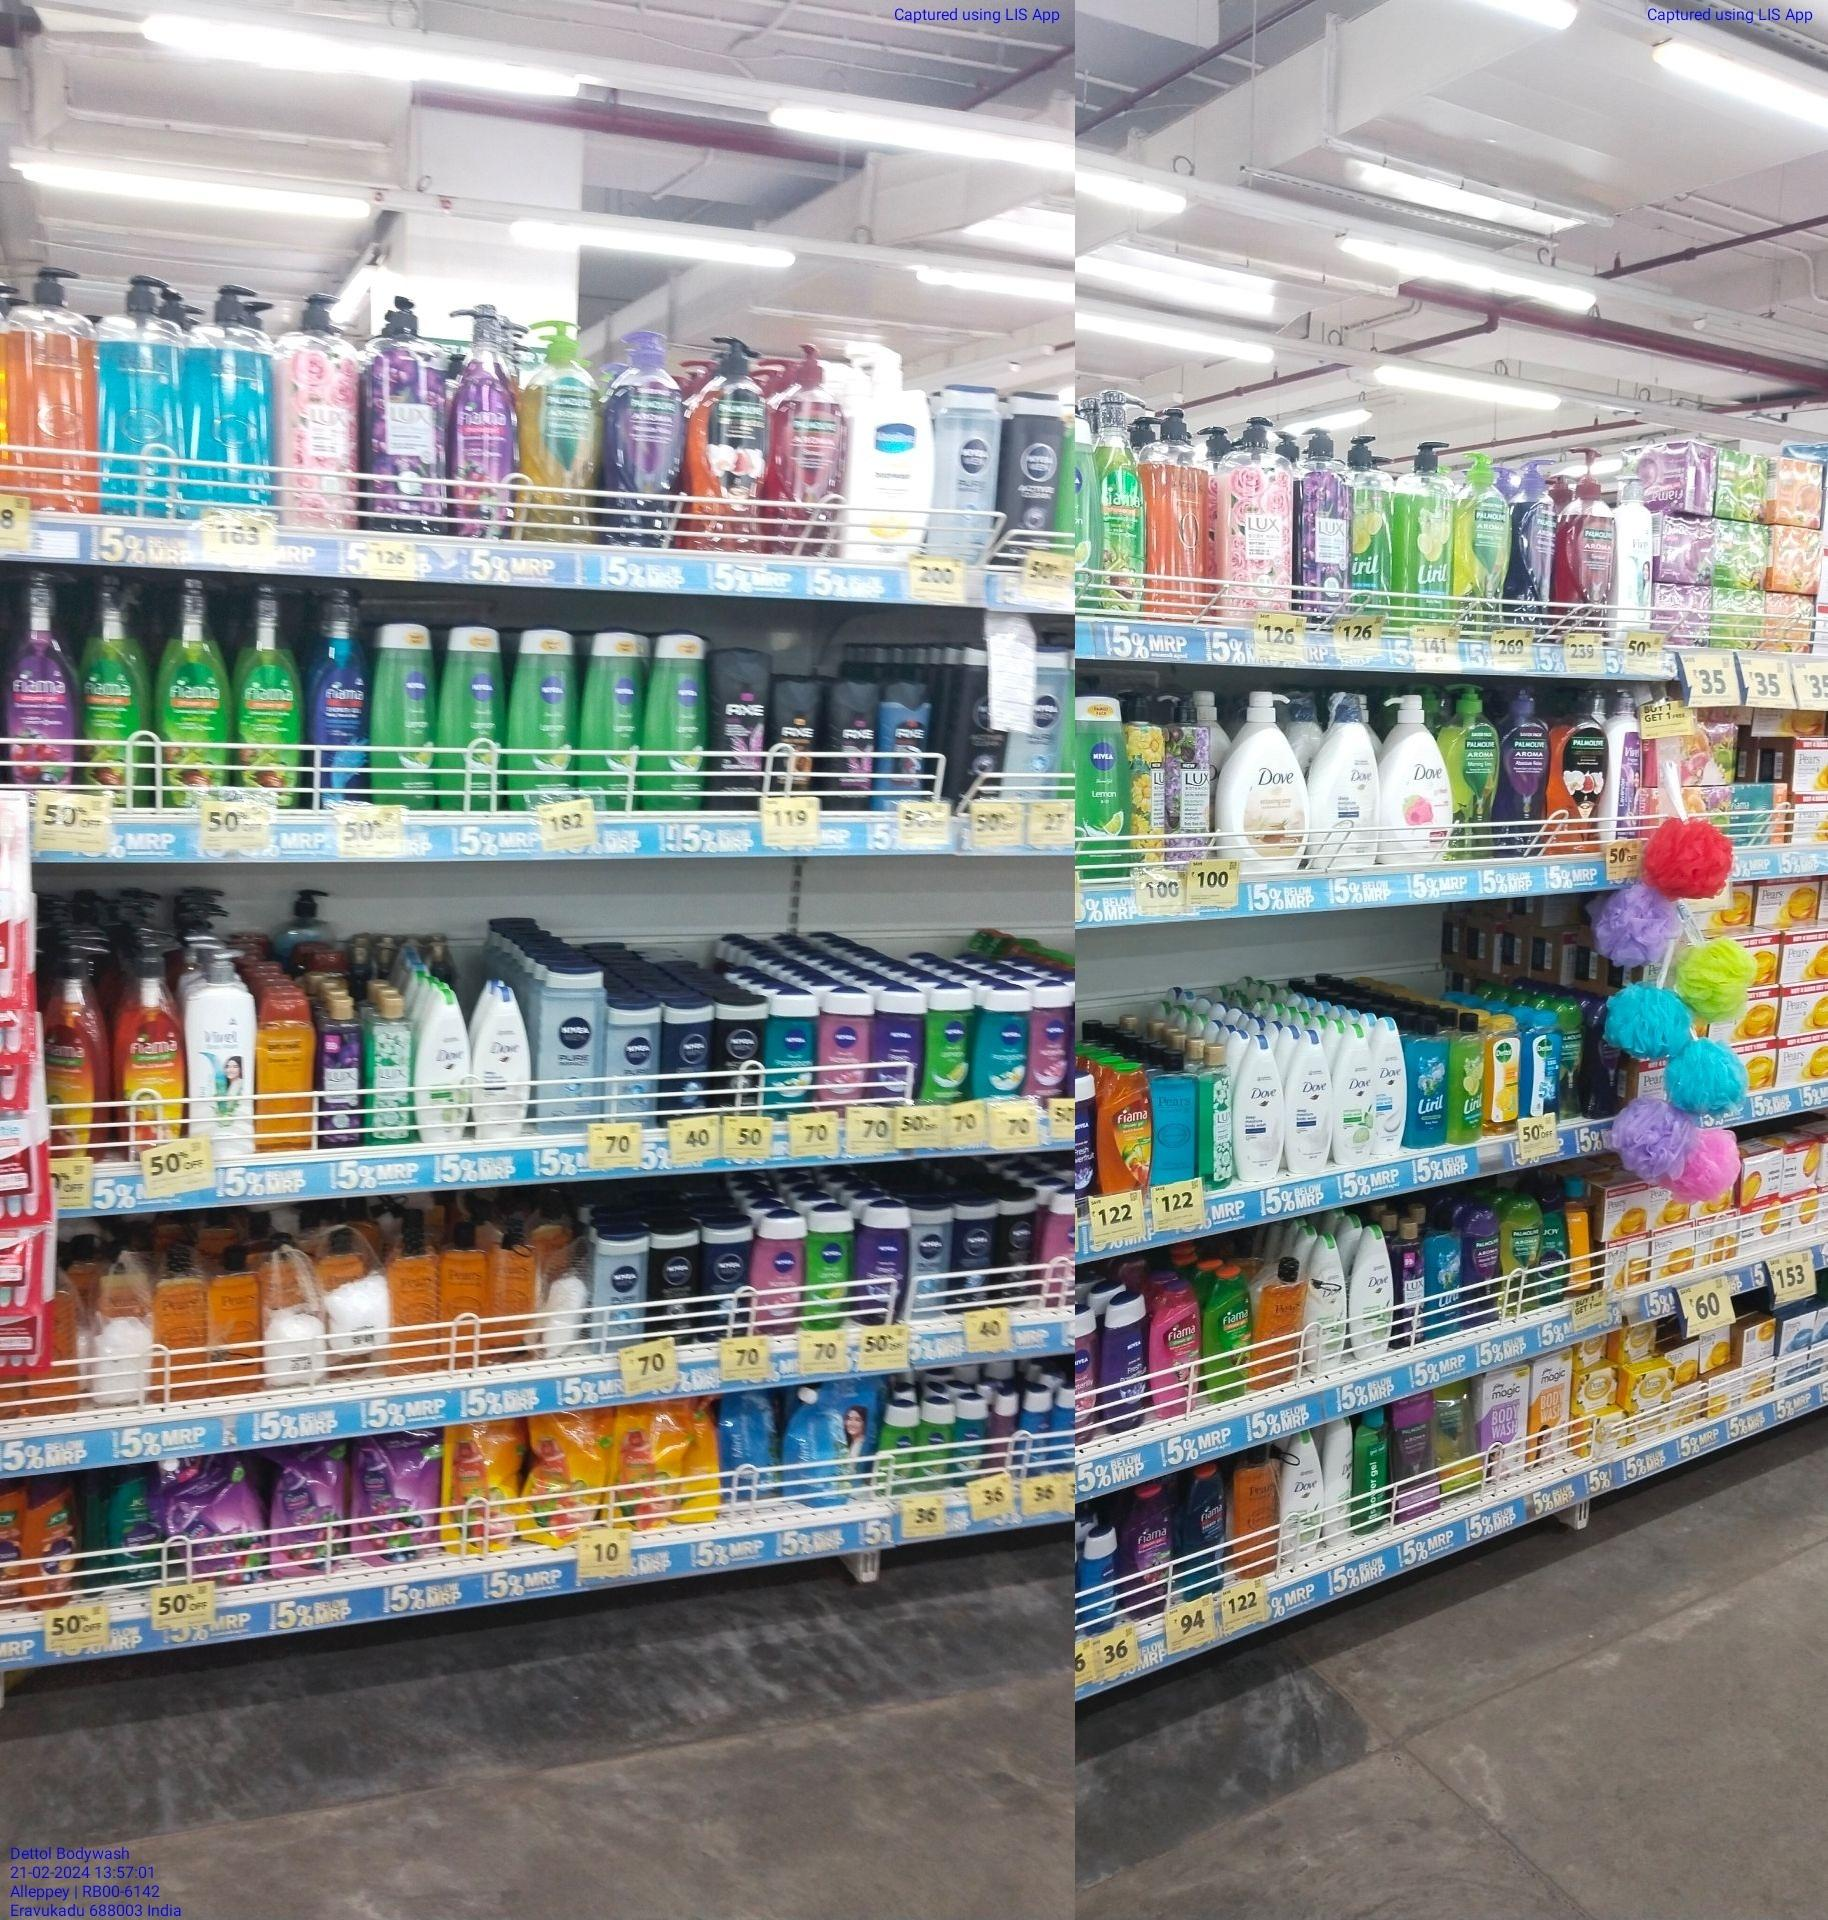Dettol_Bodywash_Cool: (1523, 1011, 1559, 1114)
Dettol_Bodywash_Refresh: (1485, 1015, 1519, 1131)
Dove_Deep_Moisture_Body_Wash_250ML: (473, 986, 530, 1137), (1235, 1039, 1284, 1181), (1286, 1035, 1332, 1174)
Dove_Gentle_Exfoliating_Body_Wash_250ML: (1377, 1017, 1406, 1155)
Dove_Refreshing_Body_Wash_250ML: (415, 994, 472, 1138), (1350, 1224, 1392, 1359), (1305, 1238, 1346, 1373), (1336, 1027, 1375, 1164), (1281, 1433, 1322, 1560)
Fiama_Shower_Gel_Lemongrass_and_Jojoba_250ML: (1204, 1274, 1252, 1404)
Fiama_Shower_Gel_Patchouli_and_Macadamia_250ML: (1152, 1289, 1202, 1418)
Fiama_Shower_Gel_Peach_and_Avocado_250ML: (1099, 1065, 1152, 1188)
Get_Real_Shower_Gel_Moisturising_Glycerin_300ML: (257, 999, 314, 1154)
Joy_Shower_Gel_Mandarin_and_Lemongrass_250ML: (24, 1476, 77, 1603)
Joy_Shower_Gel_Mint_and_Eucalyptus_250ML: (108, 1469, 161, 1589)
Liril_Cooling_Mint_Body_Wash_250ML: (1410, 1015, 1447, 1152), (1428, 1212, 1461, 1335)
Liril_Lime_and_Tea_Tree_Oil_Body_Wash_250ML: (1451, 1013, 1483, 1143)
Lux_Black_Orchid_Scent_and_Juniper_Oil_Body_Wash_245ML: (319, 994, 364, 1143), (1394, 1219, 1425, 1344)
Lux_Body_Wash_Skin_Detox_Freesia_Scent_and_Alove_Vera_245ML: (369, 994, 413, 1145), (1202, 1042, 1233, 1188)
Nivea_Shower_Gel_Frangipani_and_Oil_250ML: (765, 1001, 816, 1116), (979, 993, 1027, 1101)
Nivea_Shower_Gel_Fresh_Powerfruit_250ML: (857, 1202, 907, 1325), (1104, 1291, 1147, 1430), (873, 994, 923, 1106)
Nivea_Shower_Gel_Lemon_and_Oil_250ML: (439, 631, 504, 811), (509, 629, 576, 795), (376, 622, 434, 806), (583, 627, 641, 806), (646, 636, 707, 804), (1077, 699, 1132, 878), (808, 1210, 849, 1329), (926, 996, 969, 1104)
Nivea_Shower_Gel_Waterlily_and_Oil_250ML: (755, 1219, 806, 1334), (820, 999, 869, 1111), (1029, 991, 1068, 1097)
Palmolive_Aroma_Morning_Tonic_Shower_Gel_250ML: (1502, 1195, 1542, 1313)
Palmolive_Aroma_Relax_250ML: (1464, 1215, 1499, 1327)
Pears_Pure_Glycerin_and_Mint_Extracts_Body_Wash_250ML: (1154, 1051, 1195, 1179)
